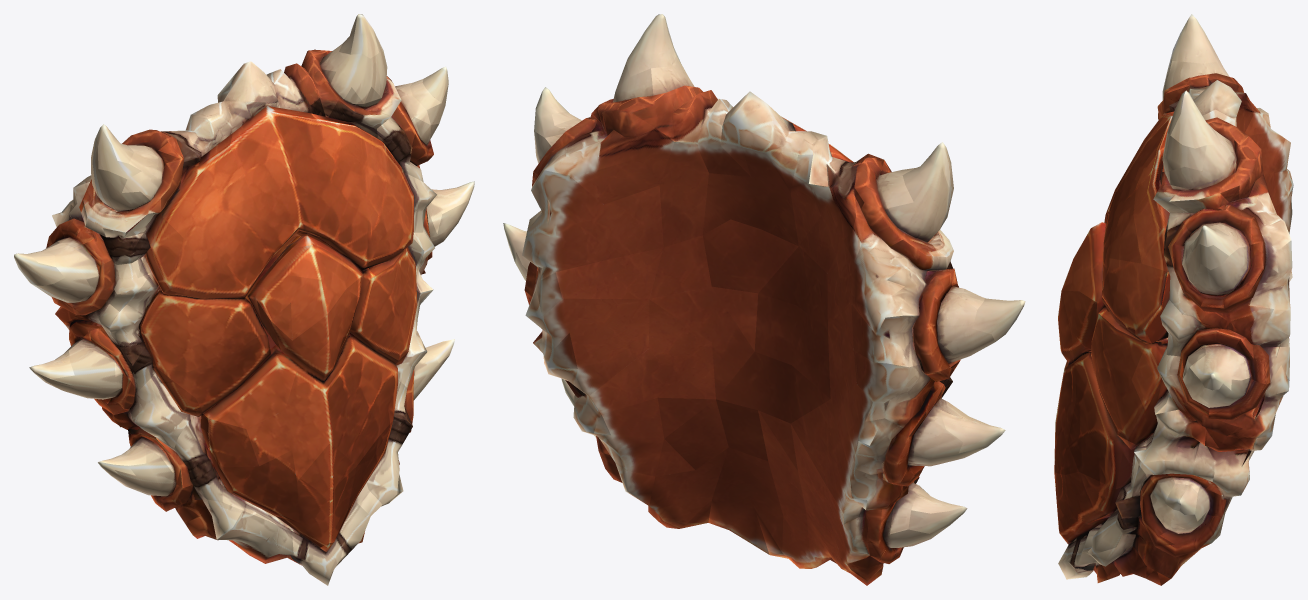
The model's file is crab_greatshield_meshy.glb.
The picture shows the model from 3 angles, left to right: view 1: azimuth 30°, elevation 25°; view 2: azimuth 150°, elevation 25°; view 3: azimuth 270°, elevation 25°; orthographic projection. The views are drawn at different scales.
Size of the model in its own units: 1.9 by 2 by 0.812.
1 material, 1 textured.
